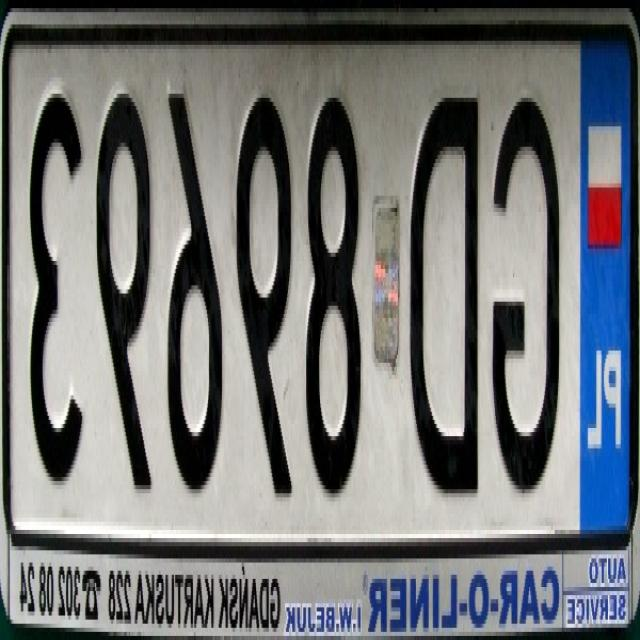pl_license_plate: (11, 41, 632, 526)
